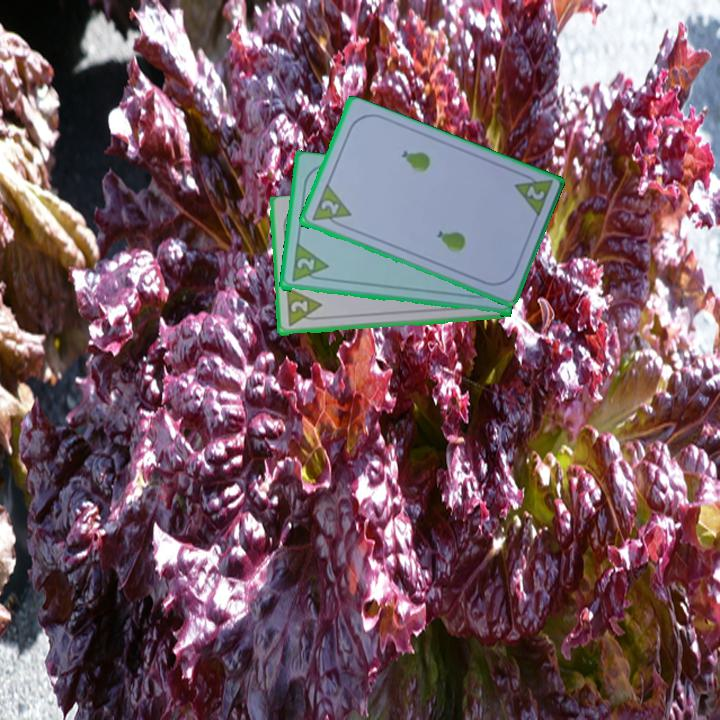2p: (510, 168, 555, 221), (308, 182, 353, 231), (282, 286, 325, 330), (293, 255, 317, 274)
